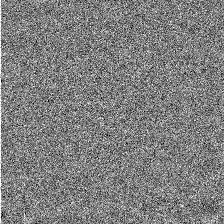cavities: (0, 55, 190, 158)
